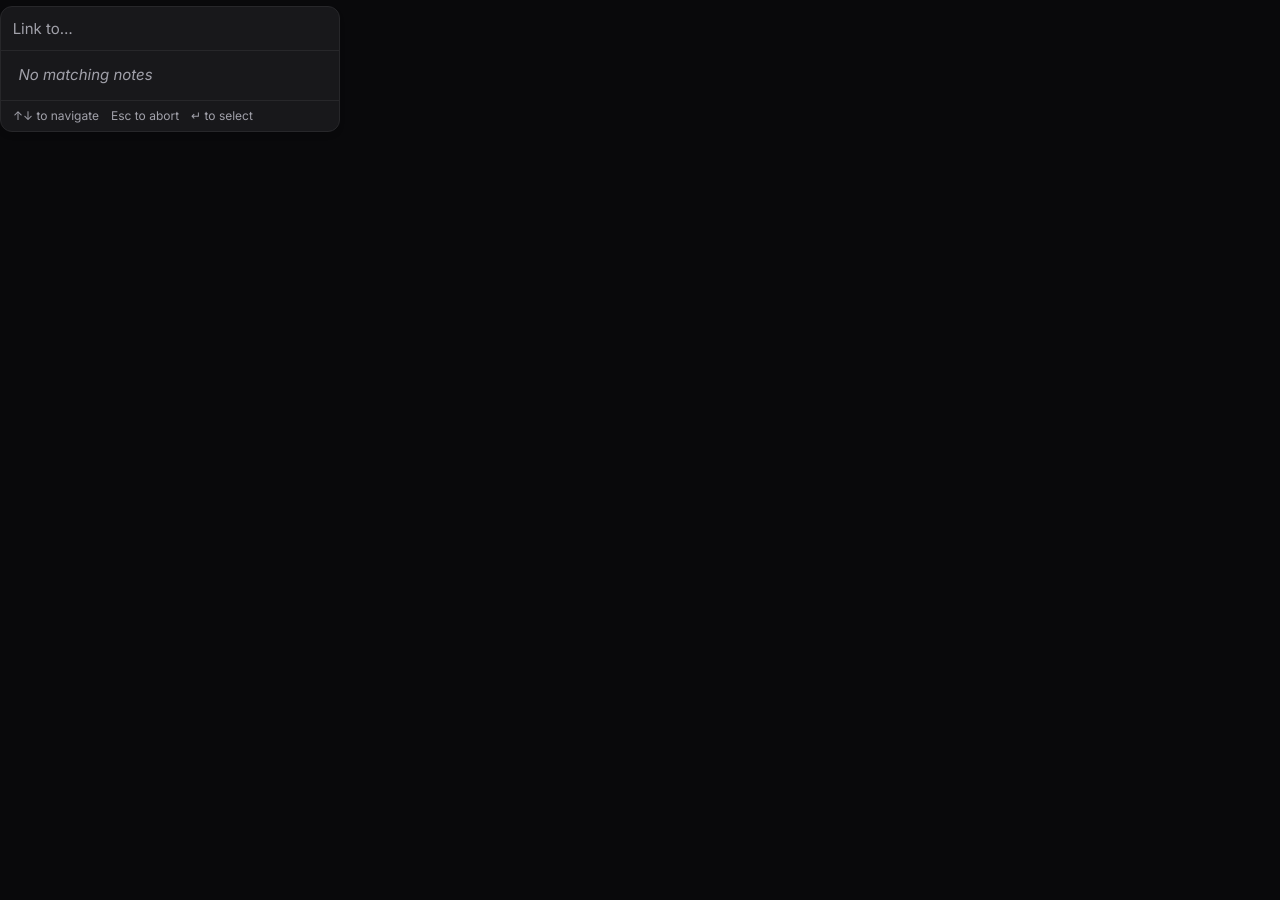
Test: [ [ create rows (M29) › Other types lists the rest and creates with the picked type
Later steps or results of the test are not shown.
In the field named "Search notes": (170, 28) [13,7,327,50], type "APP01"
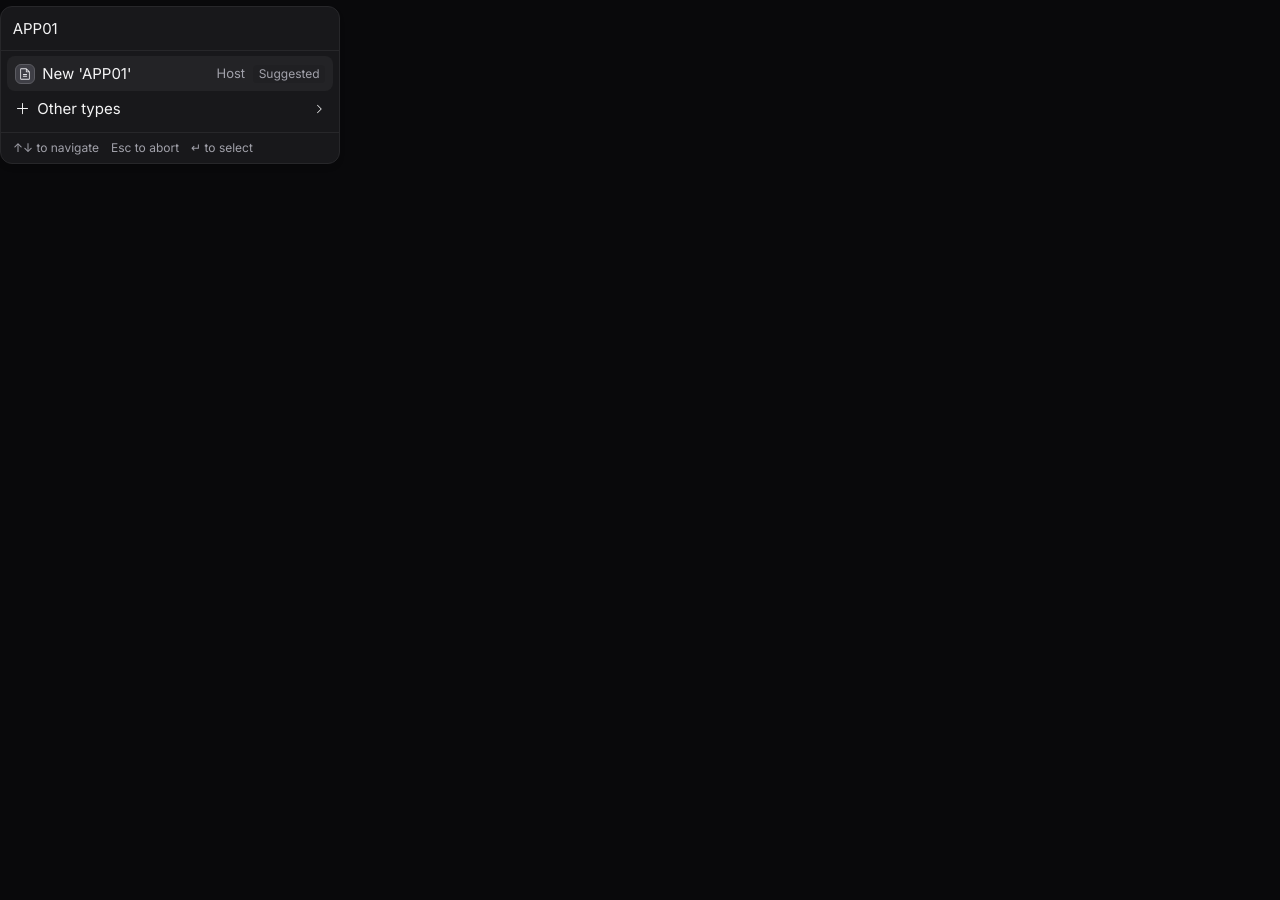
Click the button "Other types": (79, 108) [7,91,333,126]
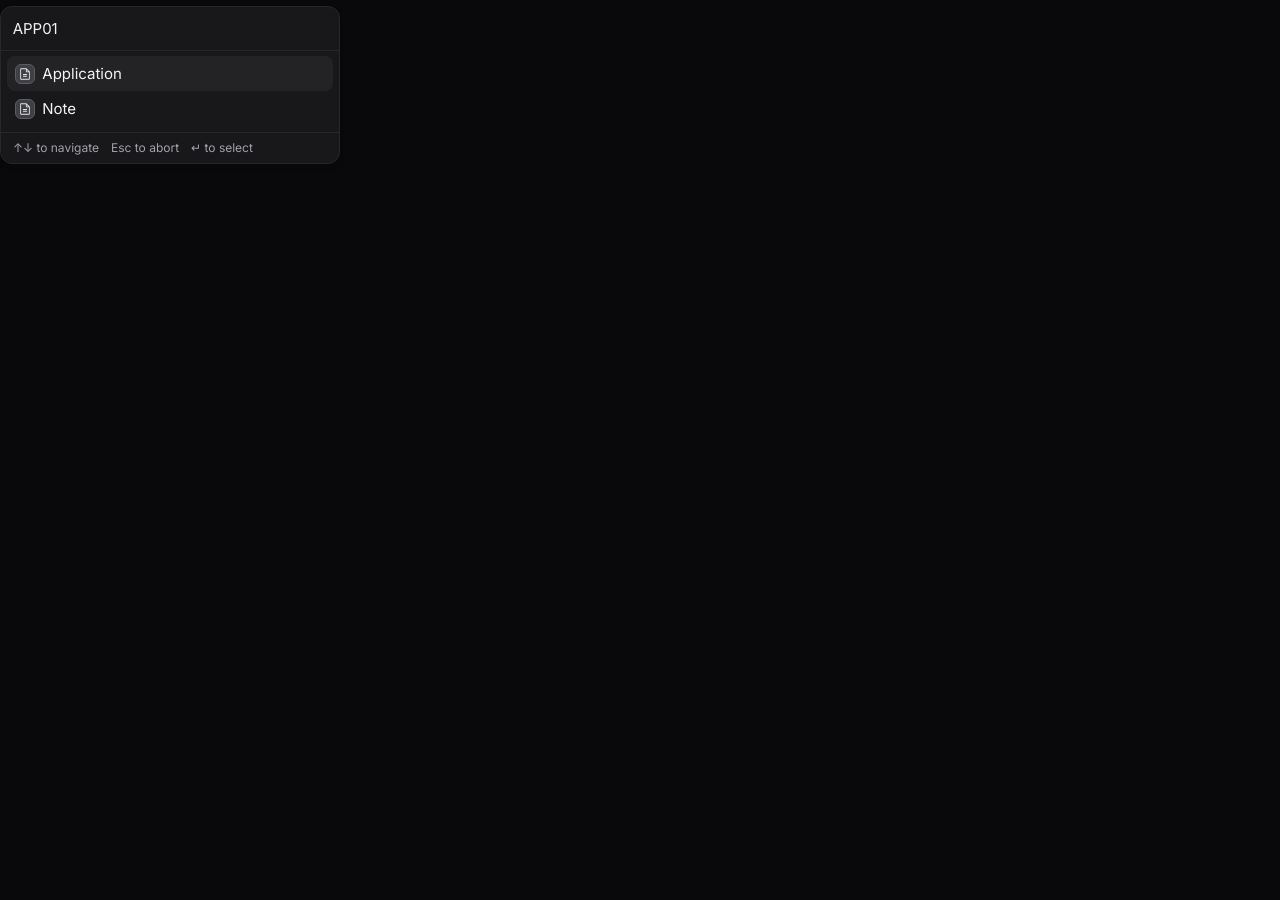
Result: the options read "Application", "Note", in this order at [7,56,333,91]; [7,91,333,126]
